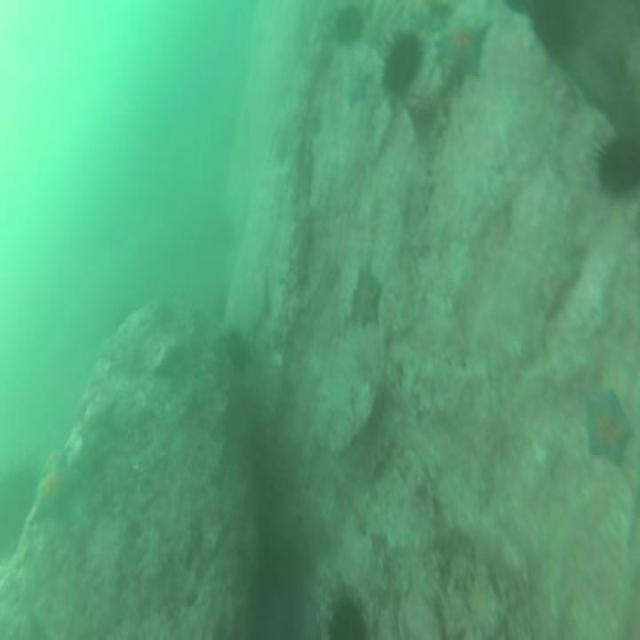echinus: (377, 27, 427, 104), (588, 131, 640, 199), (529, 0, 579, 63), (321, 586, 369, 640), (332, 0, 367, 54), (220, 328, 252, 374)
starfish: (578, 380, 634, 472), (30, 442, 84, 528), (433, 18, 491, 86), (349, 268, 384, 332), (342, 57, 374, 115)
